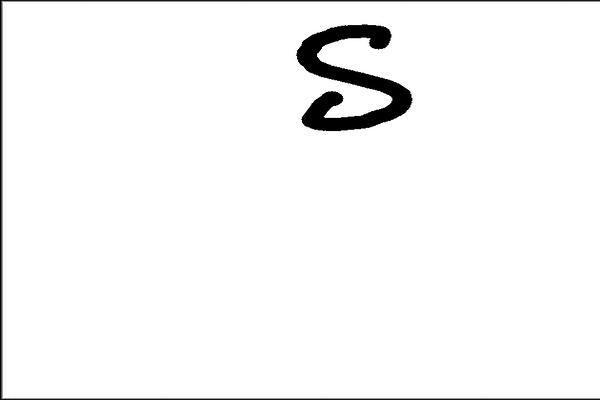S: (291, 18, 417, 136)
